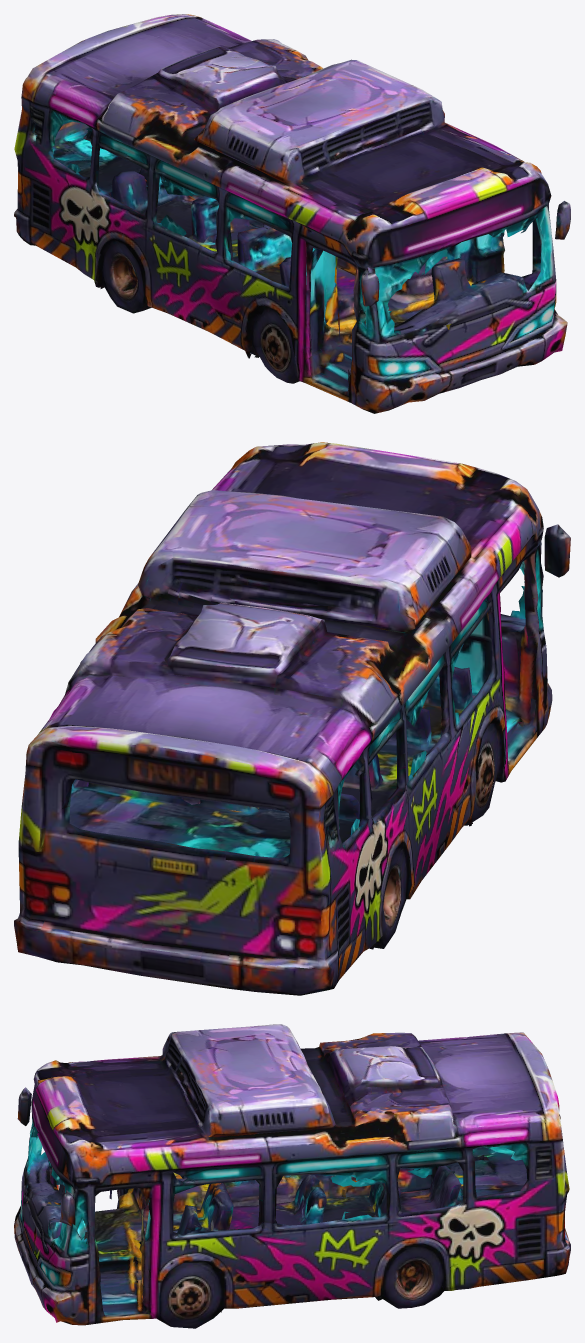
File: GW_D01_wrecked_bus.glb
The picture shows the model from 3 angles, top to bottom: view 1: azimuth 30°, elevation 25°; view 2: azimuth 150°, elevation 25°; view 3: azimuth 270°, elevation 25°; orthographic projection. The views are drawn at different scales.
Parts seen in each view (by area): view 1: tripo_node_2b4f70fb-5638-4a45-a7ae-7fbcb8f1bc5e; view 2: tripo_node_2b4f70fb-5638-4a45-a7ae-7fbcb8f1bc5e; view 3: tripo_node_2b4f70fb-5638-4a45-a7ae-7fbcb8f1bc5e.
Part boxes in pixels (x1,y1,x2,y2): tripo_node_2b4f70fb-5638-4a45-a7ae-7fbcb8f1bc5e: (14,14,570,413); tripo_node_2b4f70fb-5638-4a45-a7ae-7fbcb8f1bc5e: (14,442,570,995); tripo_node_2b4f70fb-5638-4a45-a7ae-7fbcb8f1bc5e: (14,1024,570,1328).
Bounding box in the file's own units: 0.6177 × 0.4229 × 0.9949.
1 material, 1 textured.
